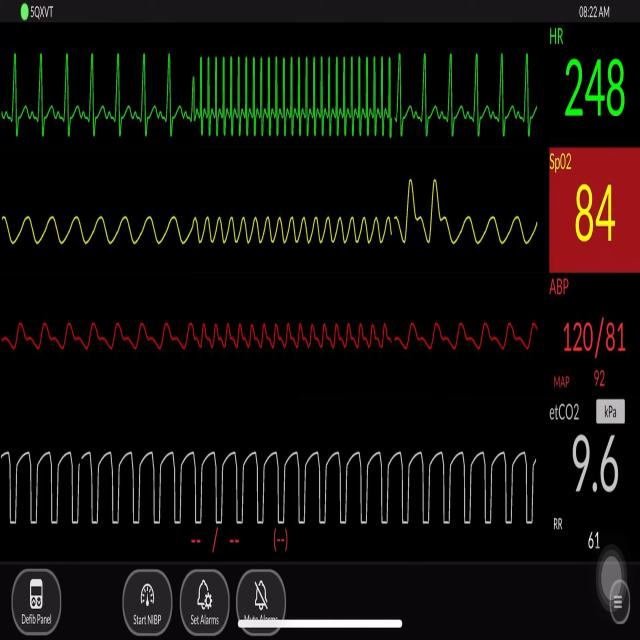danger: (190, 39, 400, 148)
